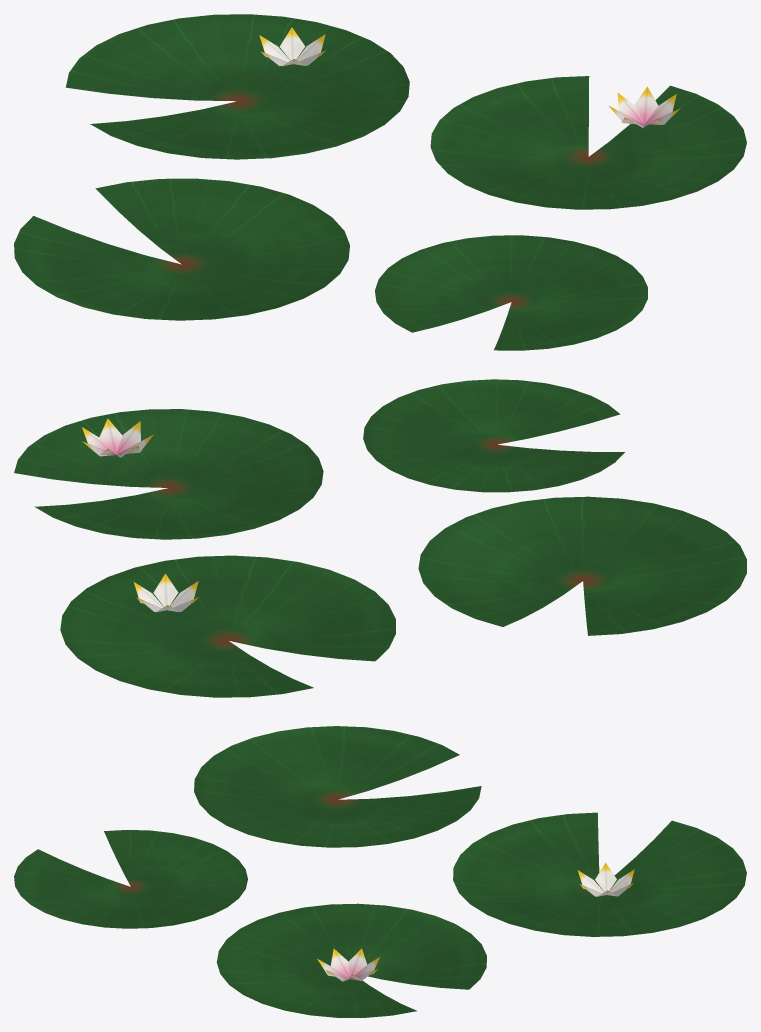
File: water_lily_v2.glb
3 views of the same model, one above another, from view 1: azimuth 30°, elevation 25°; view 2: azimuth 150°, elevation 25°; view 3: azimuth 270°, elevation 25° (orthographic). The views are drawn at different scales.
Parts seen in each view (by area): view 1: water_lily_v2; view 2: water_lily_v2; view 3: water_lily_v2.
Boxes of the visible parts, x1,y1,x2,y2 form: water_lily_v2: (14,14,746,350); water_lily_v2: (14,379,746,697); water_lily_v2: (14,726,746,1017).
Size of the model in its own units: 0.7415 by 0.042 by 0.789.
Materials: 3 (3 with a texture image).
